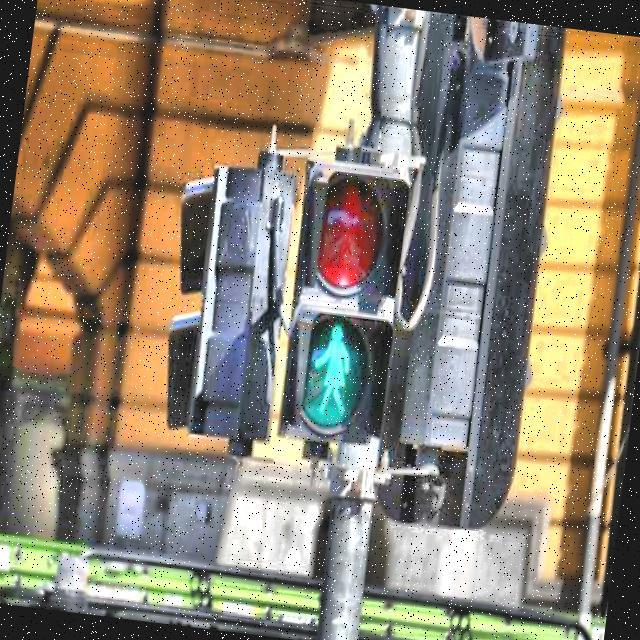green_light: (307, 321, 358, 422)
